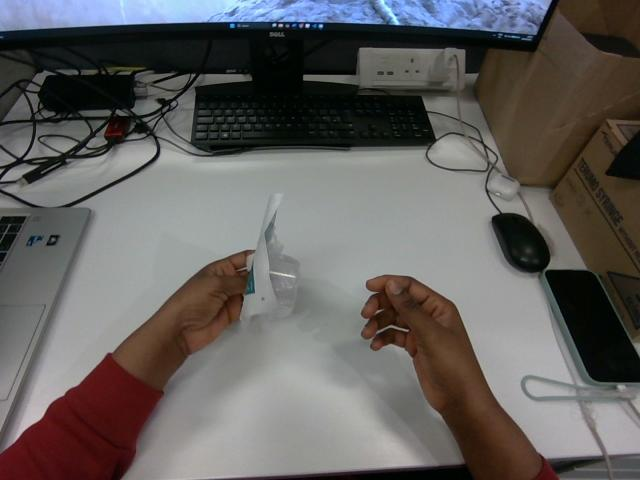gallipot: (241, 194, 298, 319)
